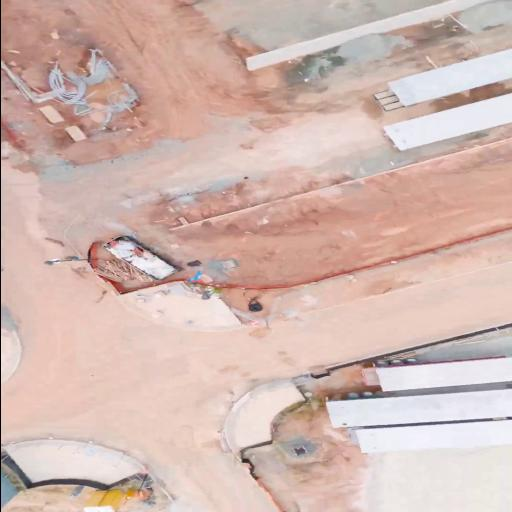uav: (185, 270, 203, 282)
